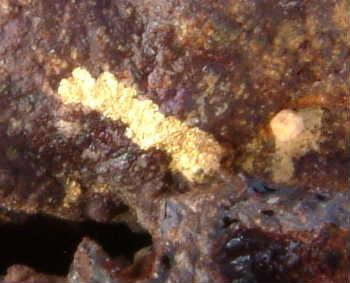gold: (59, 68, 224, 184), (271, 109, 323, 183)
